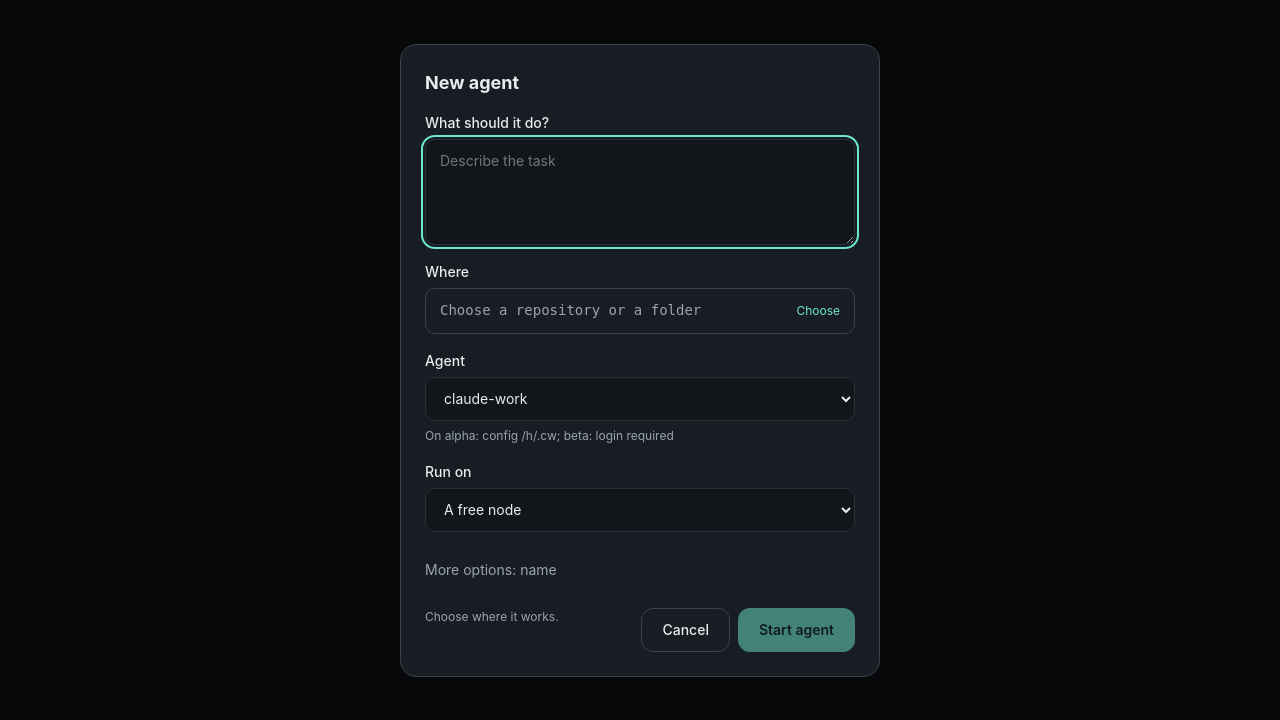
Scenario: SpawnDialog: profiles and fresh › picker is the union of node profiles with where each lives; legacy list without reports
Check: the text "On alpha: config /h/.cw; beta: login required" is shown, box 425,428 -> 674,442
Step 1. Select "antigravity" in the dropdown labelled "Agent" → {"x": 640, "y": 398}, box 425,376 -> 855,420
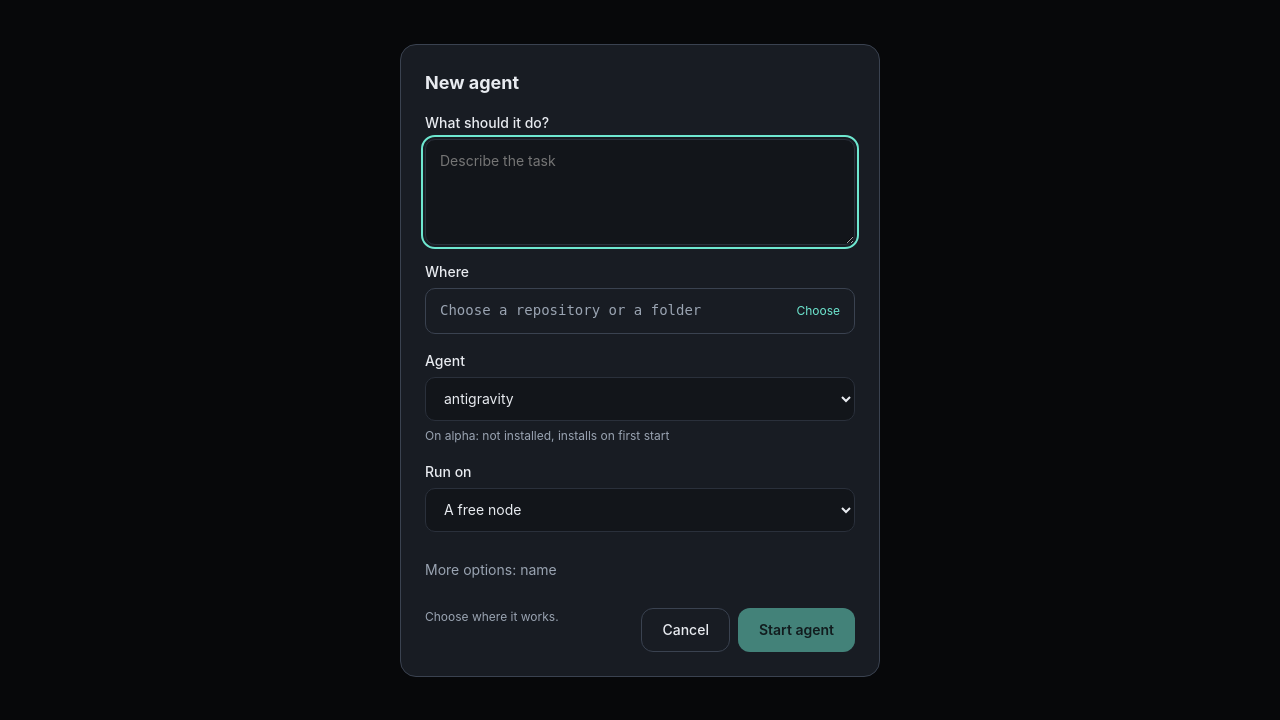
Check: the text "On alpha: not installed, installs on first start" is shown, box 425,428 -> 669,442
